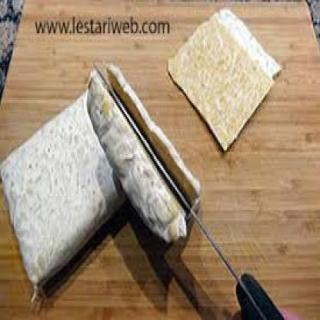Tempe: (167, 9, 287, 152)
